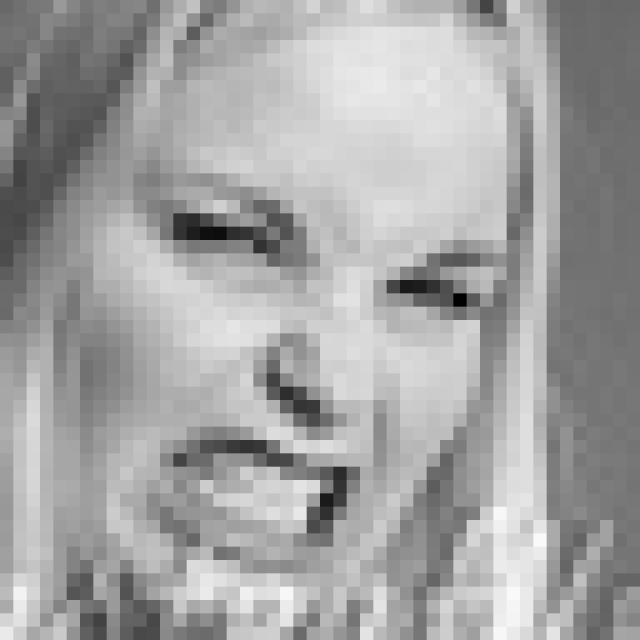disgust: (143, 169, 499, 572)
